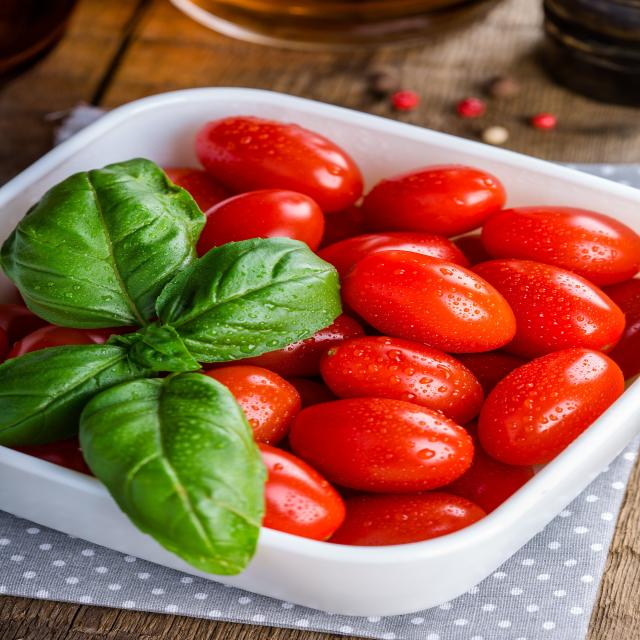Tomato: (282, 387, 500, 501), (359, 237, 532, 360)
